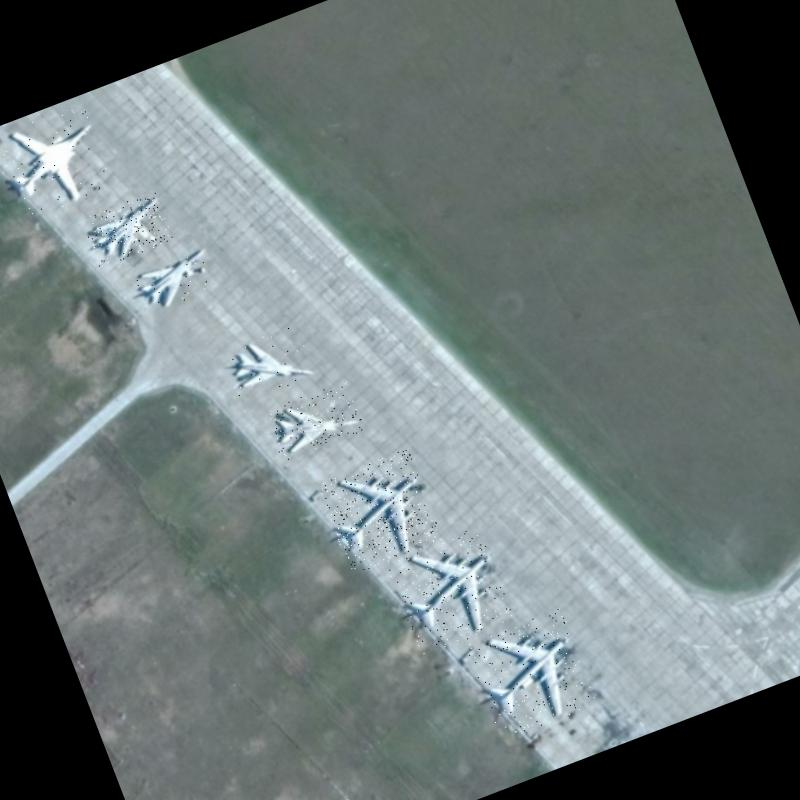A12: (263, 379, 365, 461), (219, 320, 317, 404), (127, 240, 224, 316), (80, 190, 174, 268)
A17: (465, 607, 598, 740), (384, 526, 514, 656), (316, 447, 443, 575)
A6: (0, 102, 116, 224)
